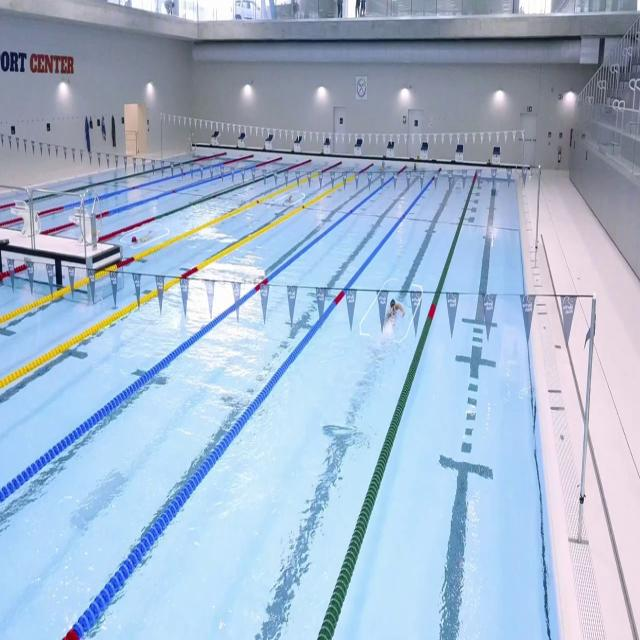Swimming: (385, 299, 405, 330), (131, 234, 154, 246)
